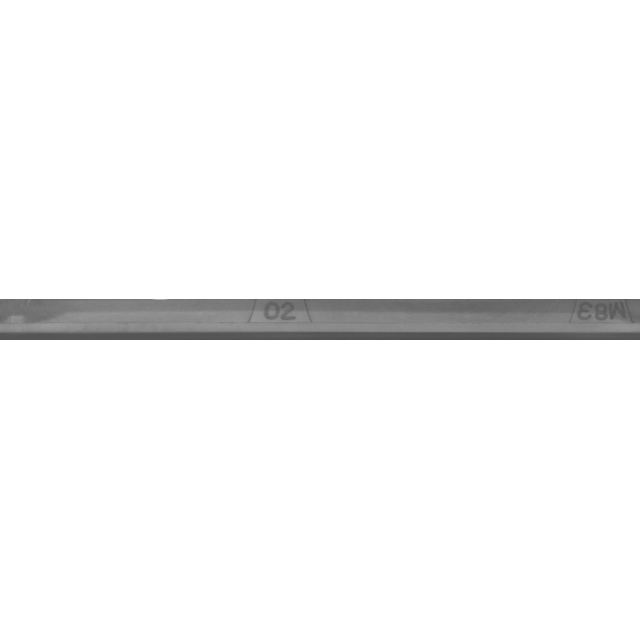mohao: (499, 270, 640, 370)
xuehao: (183, 270, 383, 370)
